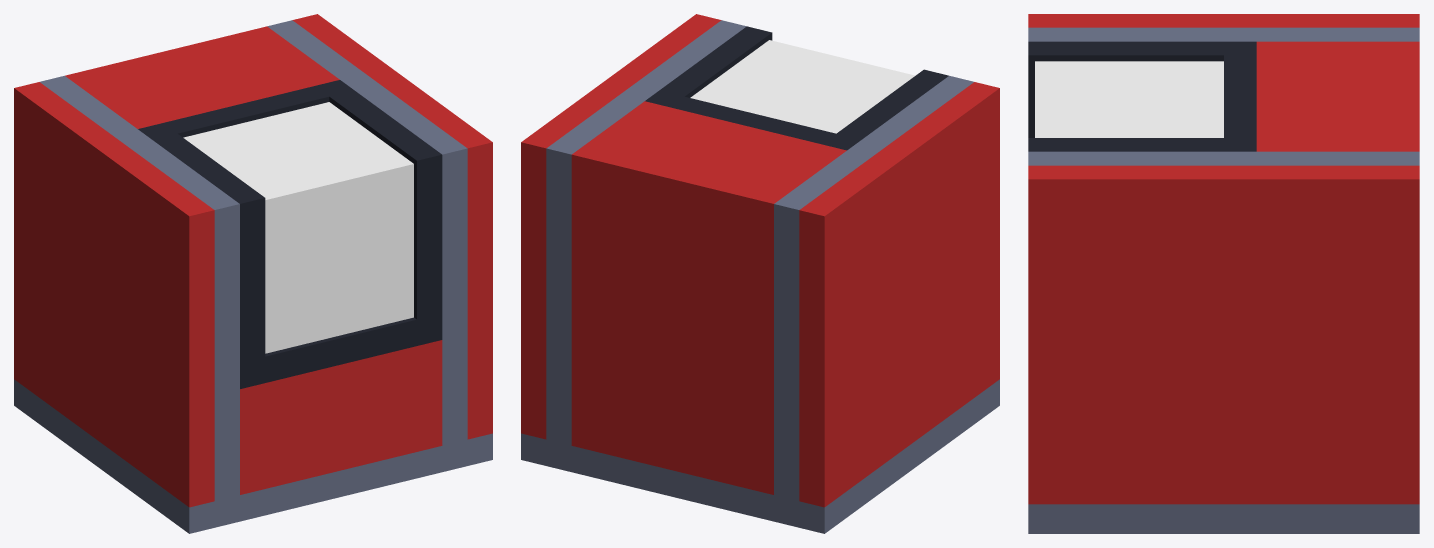
Rendered from Drone.fbx.
3 views of the same model, side by side, from view 1: azimuth 30°, elevation 25°; view 2: azimuth 150°, elevation 25°; view 3: azimuth 270°, elevation 25° (orthographic). The views are drawn at different scales.
Parts seen in each view (by area): view 1: Cube; view 2: Cube; view 3: Cube.
Part boxes in pixels (x1,y1,x2,y2): Cube: (14, 14, 492, 533); Cube: (521, 14, 999, 533); Cube: (1028, 14, 1419, 533).
Size of the model in its own units: 0.6 by 0.6 by 0.6.
